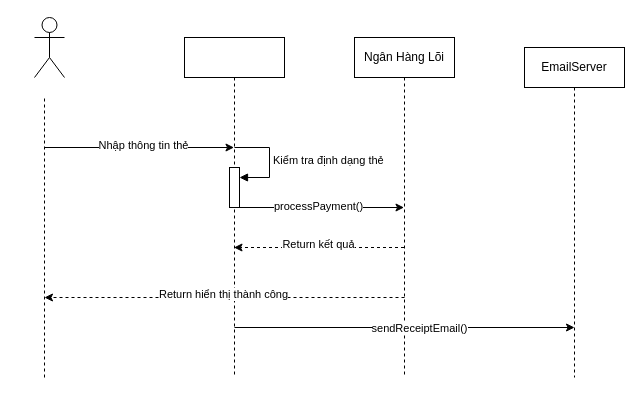
Some shapes in this 642 by 396 pixel diagram are drawn without their labels. Here are the shapes that lost their labels. From the top down, the centre of each, then its label:
At [49,47]: "Khách hàng".
At [234,207]: "Cổng Thanh Toán".
